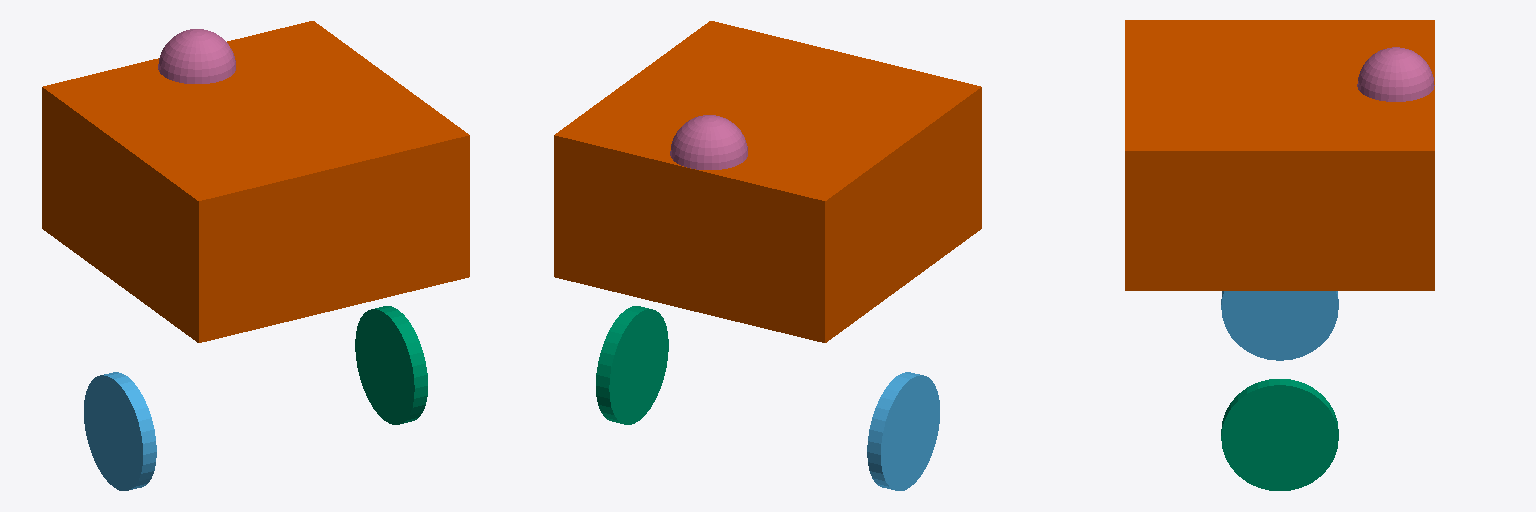
robot.urdf — robot:
<?xml version="1.0" ?>
<!-- =================================================================================== -->
<!-- |    This document was autogenerated by xacro from src/urdf_simulate/urdf/robot.xacro | -->
<!-- |    EDITING THIS FILE BY HAND IS NOT RECOMMENDED                                 | -->
<!-- =================================================================================== -->
<robot name="robot">
  <!-- 1 cm -->
  <!-- 2 cm -->
  <!-- 15.2 cm -->
  <!-- 30 cm -->
  <!-- <xacro:property name="telescopic_rod_radius" value="0.03" /> -->
  <!-- 20 cm -->
  <!-- Base Link -->
  <link name="base_link">
    <!-- <visual>
            <geometry>
                <box size="${chassis_width} ${chassis_length} ${chassis_height}" />
            </geometry>
            <material name="gray" />
        </visual> -->
    <!-- <collision>
            <geometry>
                <box size="${chassis_width} ${chassis_length} ${chassis_height}" />
            </geometry>
        </collision> -->
    <inertial>
      <mass value="10.0"/>
      <origin xyz="0 0 0"/>
      <inertia ixx="1" ixy="0.0" ixz="0.0" iyy="1" iyz="0.0" izz="1"/>
    </inertial>
  </link>
  <!-- Four Wheels -->
  <link name="wheel_left">
    <visual>
      <geometry>
        <cylinder length="0.02" radius="0.076"/>
      </geometry>
      <material name="black"/>
    </visual>
    <collision>
      <geometry>
        <cylinder length="0.02" radius="0.076"/>
      </geometry>
    </collision>
    <inertial>
      <mass value="1.0"/>
      <origin xyz="0 0 0"/>
      <inertia ixx="0.01" ixy="0.0" ixz="0.0" iyy="0.01" iyz="0.0" izz="0.01"/>
    </inertial>
  </link>
  <link name="wheel_right">
    <visual>
      <geometry>
        <cylinder length="0.02" radius="0.076"/>
      </geometry>
      <material name="black"/>
    </visual>
    <collision>
      <geometry>
        <cylinder length="0.02" radius="0.076"/>
      </geometry>
    </collision>
    <inertial>
      <mass value="1.0"/>
      <origin xyz="0 0 0"/>
      <inertia ixx="0.01" ixy="0.0" ixz="0.0" iyy="0.01" iyz="0.0" izz="0.01"/>
    </inertial>
  </link>
  <!-- Joints for Wheels -->
  <joint name="joint_wheel_left" type="continuous">
    <parent link="base_link"/>
    <child link="wheel_left"/>
    <origin rpy="0 -1.570796326795 0" xyz="-0.2 0 -0.005"/>
    <axis xyz="0 0 1"/>
  </joint>
  <joint name="joint_wheel_right" type="continuous">
    <parent link="base_link"/>
    <child link="wheel_right"/>
    <origin rpy="0 -1.570796326795 0" xyz="0.2 0 -0.005"/>
    <axis xyz="0 0 1"/>
  </joint>
  <link name="caster_forward">
    <!-- <visual>
            <geometry>
                <sphere radius="${caster_radius}" />
            </geometry>
            <origin xyz="0 0 0" rpy="0 0 0" />
            <material name="green" />
        </visual> -->
    <collision>
      <origin rpy="0 0 0" xyz="0 0 0"/>
      <geometry>
        <sphere radius="0.03"/>
      </geometry>
    </collision>
    <!-- <inertial>
            <mass value="0.5" />
            <inertia ixx="3.000e-4" iyy="3.000e-4" izz="3.000e-4" ixy="0" ixz="0" iyz="0" />
        </inertial> -->
  </link>
  <link name="caster_backward">
    <!-- <visual>
            <geometry>
                <sphere radius="${caster_radius}" />
            </geometry>
            <origin xyz="0 0 0" rpy="0 0 0" />
            <material name="green" />
        </visual> -->
    <collision>
      <origin rpy="0 0 0" xyz="0 0 0"/>
      <geometry>
        <sphere radius="0.03"/>
      </geometry>
    </collision>
    <!-- <inertial>
            <mass value="0.5" />
            <inertia ixx="3.000e-4" iyy="3.000e-4" izz="3.000e-4" ixy="0" ixz="0" iyz="0" />
        </inertial> -->
  </link>
  <joint name="caster_forward_joint" type="fixed">
    <origin rpy="0 0 0" xyz="0 0.17 -0.051000000000000004"/>
    <parent link="base_link"/>
    <child link="caster_forward"/>
  </joint>
  <joint name="caster_backward_joint" type="fixed">
    <origin rpy="0 0 0" xyz="0 -0.17 -0.051000000000000004"/>
    <parent link="base_link"/>
    <child link="caster_backward"/>
  </joint>
  <!-- Telescopic Rod -->
  <!-- <link name="telescopic_rod">
        <visual>
            <geometry>
                <cylinder radius="${telescopic_rod_radius}" length="${max_lift_height}" />
            </geometry>
            <material name="silver" />
        </visual>
        <collision>
            <geometry>
                <cylinder radius="${telescopic_rod_radius}" length="${max_lift_height}" />
            </geometry>
        </collision>
        <inertial>
            <mass value="0.5" />
            <origin xyz="0 0 0" />
            <inertia ixx="0.001" ixy="0.0" ixz="0.0" iyy="0.001" iyz="0.0" izz="0.001" />
        </inertial>
    </link> -->
  <!-- Joint for Telescopic Rod -->
  <!-- <joint name="joint_telescopic_rod" type="fixed">
        <parent link="base_link" />
        <child link="telescopic_rod" />
        <origin xyz="0 0 ${(chassis_height+max_lift_height)/2}" />
    </joint> -->
  <!-- Body Link on Top of Telescopic Rod -->
  <link name="body_top">
    <visual>
      <geometry>
        <box size="0.4 0.4 0.2"/>
      </geometry>
      <material name="blue"/>
    </visual>
    <collision>
      <geometry>
        <box size="0.4 0.4 0.2"/>
      </geometry>
    </collision>
    <inertial>
      <mass value="0.1"/>
      <origin xyz="0 0 0"/>
      <inertia ixx="0.02" ixy="0.0" ixz="0.0" iyy="0.02" iyz="0.0" izz="0.02"/>
    </inertial>
  </link>
  <joint name="joint_body_top" type="prismatic">
    <parent link="base_link"/>
    <child link="body_top"/>
    <origin xyz="0 0 0.1"/>
    <axis xyz="0 0 1"/>
    <limit effort="1.0" lower="0.1" upper="0.3" velocity="0.1"/>
    <!-- 10 cm to 30 cm -->
  </joint>
  <link name="body_top_semantic">
    <visual>
      <geometry>
        <sphere radius="0.05"/>
      </geometry>
      <material name="black"/>
    </visual>
    <collision>
      <geometry>
        <sphere radius="0.05"/>
      </geometry>
    </collision>
  </link>
  <joint name="joint_body_top_semantic" type="fixed">
    <parent link="body_top"/>
    <child link="body_top_semantic"/>
    <origin xyz="0 0.15000000000000002 0.1"/>
  </joint>
  <!-- Transmission for the wheels -->
  <transmission name="trans_wheel_left">
    <type>transmission_interface/SimpleTransmission</type>
    <joint name="joint_wheel_left">
      <hardwareInterface>hardware_interface/VelocityJointInterface</hardwareInterface>
    </joint>
    <actuator name="actuator_wheel_left">
      <mechanicalReduction>1</mechanicalReduction>
    </actuator>
  </transmission>
  <transmission name="trans_wheel_right">
    <type>transmission_interface/SimpleTransmission</type>
    <joint name="joint_wheel_right">
      <hardwareInterface>hardware_interface/VelocityJointInterface</hardwareInterface>
    </joint>
    <actuator name="actuator_wheel_right">
      <mechanicalReduction>1</mechanicalReduction>
    </actuator>
  </transmission>
  <transmission name="trans_body_top">
    <type>transmission_interface/SimpleTransmission</type>
    <joint name="joint_body_top">
      <hardwareInterface>hardware_interface/PositionJointInterface</hardwareInterface>
    </joint>
    <actuator name="actuator_body_top">
      <mechanicalReduction>1</mechanicalReduction>
    </actuator>
  </transmission>
  <gazebo>
    <plugin filename="libgazebo_ros_control.so" name="gazebo_ros_control">
      <robotNamespace>/robot</robotNamespace>
    </plugin>
  </gazebo>
  <gazebo reference="base_link">
    <material>Gazebo/Grey</material>
  </gazebo>
  <gazebo reference="wheel_left">
    <material>Gazebo/DarkGrey</material>
  </gazebo>
  <gazebo reference="wheel_right">
    <material>Gazebo/DarkGrey</material>
  </gazebo>
  <gazebo reference="telescopic_rod">
    <material>Gazebo/White</material>
  </gazebo>
  <gazebo reference="body_top">
    <material>Gazebo/DarkYellow </material>
  </gazebo>
  <gazebo reference="body_top_semantic">
    <sensor name="head_ydlidar_sensor" type="gpu_ray">
      <pose>0 0 0 0 0 0</pose>
      <visualize>true</visualize>
      <update_rate>50</update_rate>
      <ray>
        <scan>
          <horizontal>
            <samples>700</samples>
            <resolution>1</resolution>
            <min_angle>-3.14159265359</min_angle>
            <max_angle>3.14159265359</max_angle>
          </horizontal>
        </scan>
        <range>
          <min>0.12</min>
          <max>8</max>
          <resolution>0.72</resolution>
        </range>
        <noise>
          <type>gaussian</type>
          <!-- Noise parameters based on published spec for Hokuyo laser
               achieving "+-30mm" accuracy at range < 10m.  A mean of 0.0m and
               stddev of 0.01m will put 99.7% of samples within 0.03m of the true
               reading. -->
          <mean>0.0</mean>
          <stddev>0.01</stddev>
        </noise>
      </ray>
      <plugin filename="libgazebo_ros_gpu_laser.so" name="gazebo_ros_head_ydlidar_controller">
        <robotNamespace>/robot</robotNamespace>
        <topicName>scan</topicName>
        <frameName>body_top_semantic</frameName>
      </plugin>
    </sensor>
    <material>Gazebo/FlatBlack</material>
  </gazebo>
  <gazebo reference="caster_forward">
    <mu1 value="0.0"/>
    <mu2 value="0.0"/>
  </gazebo>
  <gazebo reference="caster_backward">
    <mu1 value="0.0"/>
    <mu2 value="0.0"/>
  </gazebo>
</robot>

--- What the picture shows (computed from the rendered views, not written in the file) ---
Views: 3 orthographic renders of the robot side by side, from view 1: azimuth 30°, elevation 25°; view 2: azimuth 150°, elevation 25°; view 3: azimuth 270°, elevation 25°.
Model robot with 7 links and 6 joints (2 continuous, 1 prismatic, 3 fixed), rooted at base_link, posed joints at zero except 1 at the middle of their limits (joint_body_top = 0.2).
Links seen in each view (by area): view 1: body_top, wheel_left, wheel_right, body_top_semantic; view 2: body_top, wheel_left, wheel_right, body_top_semantic; view 3: body_top, wheel_right, wheel_left, body_top_semantic.
Boxes of the visible links, box(x1,y1,x2,y2) form: body_top: box(42, 21, 469, 342); wheel_left: box(84, 372, 156, 490); wheel_right: box(355, 306, 427, 424); body_top_semantic: box(158, 29, 235, 83); body_top: box(554, 21, 981, 342); wheel_left: box(867, 372, 939, 490); wheel_right: box(596, 306, 668, 424); body_top_semantic: box(670, 115, 747, 169); body_top: box(1125, 20, 1434, 290); wheel_right: box(1221, 379, 1338, 490); wheel_left: box(1221, 291, 1338, 360); body_top_semantic: box(1357, 47, 1434, 101).
Size in the robot's own frame: 0.42 by 0.4 by 0.531 metres.
Geometry: primitives only (box / cylinder / sphere), no mesh files.